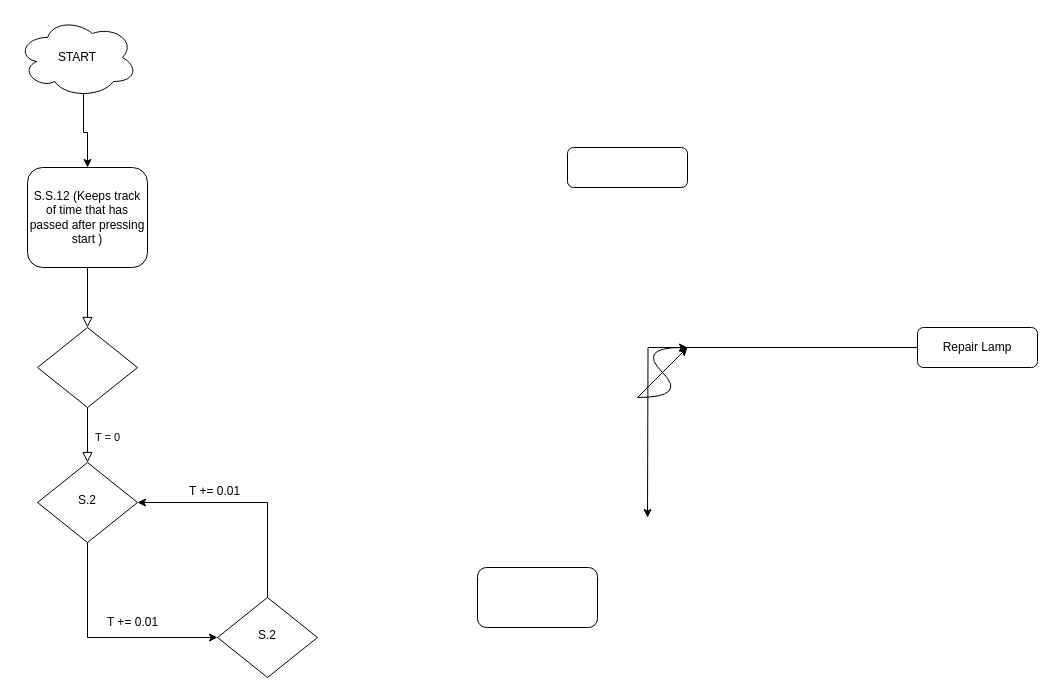
This 1055x695 diagram has some shape labels left out. Here are the shapes that lost their labels. From the top down, the box of each, then its label:
(566, 146, 688, 188): Plug in lamp
(36, 326, 138, 408): S.1
